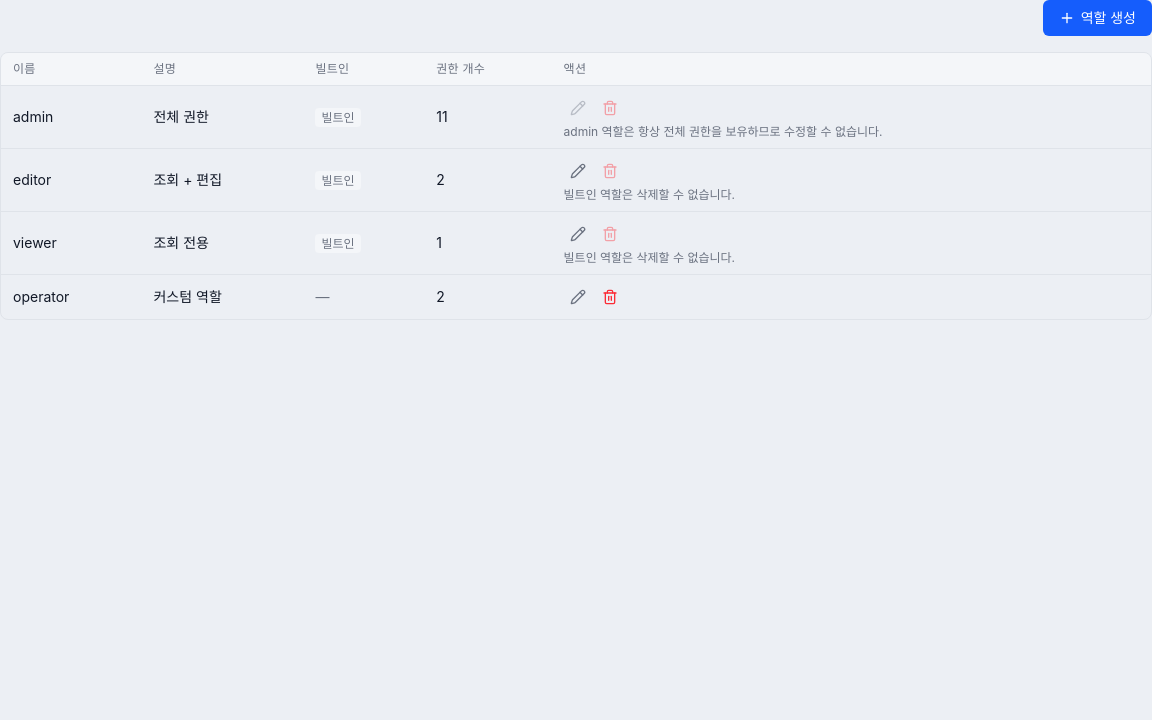
it: RolesPanel 삭제 (AC-04) › 409 ROLE_IN_USE 거부 시 원인을 안내하고 목록은 변하지 않는다
This screenshot has width=1152, height=720.
Expected: the row with test id "admin-role-row-operator" is shown, top-left (1, 274), bottom-right (1151, 319)
Click the button named "삭제 operator": x=610, y=297 top-left (596, 283), bottom-right (624, 311)
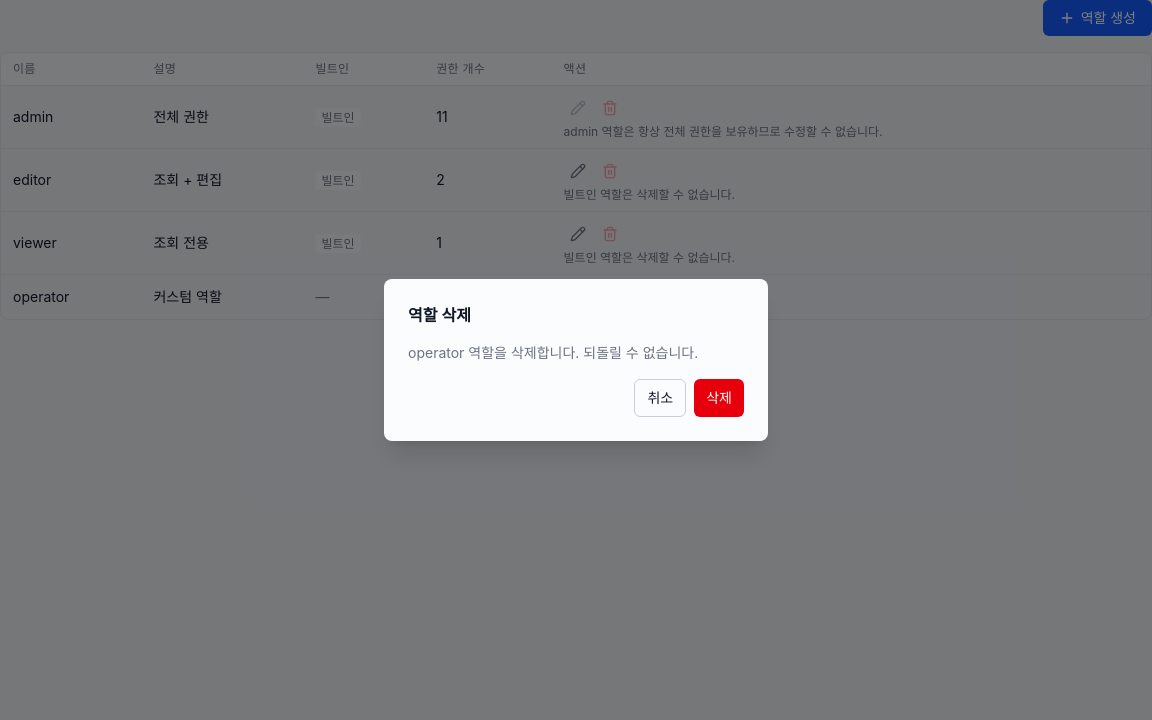
Click the button "삭제": x=719, y=398 top-left (694, 379), bottom-right (744, 417)
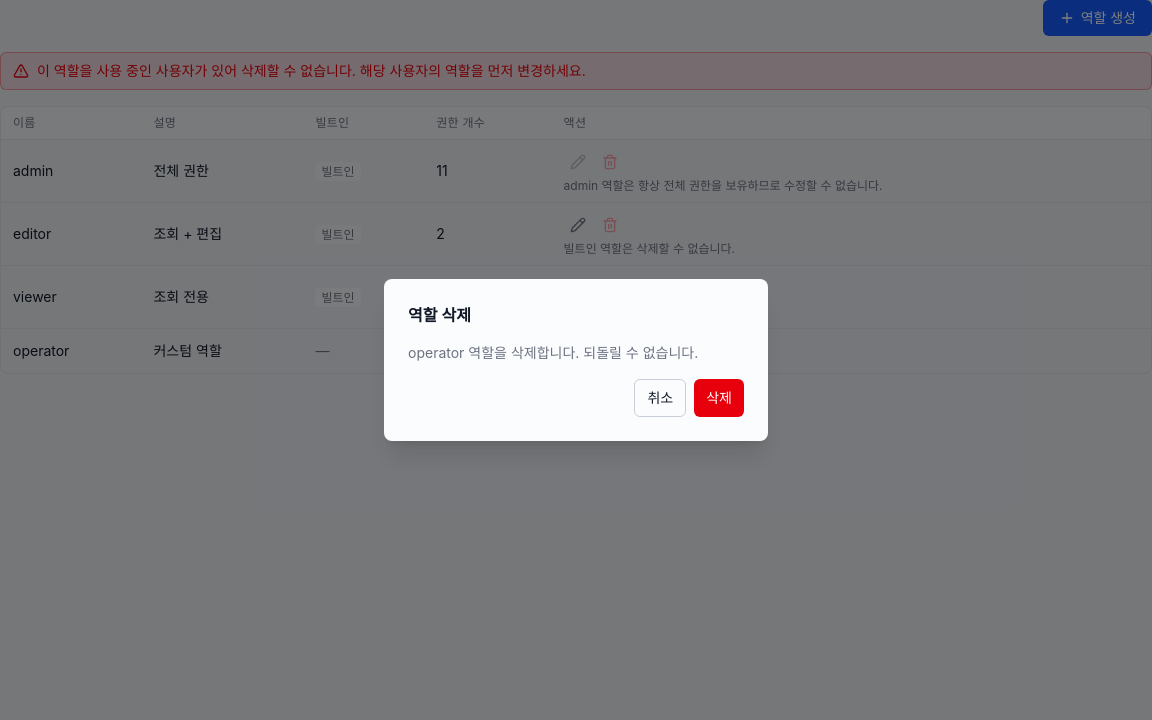
Expected: the row with test id "admin-role-row-operator" is shown, top-left (1, 328), bottom-right (1151, 373)
Now the message with test id "admin-action-error" shows "이 역할을 사용 중인 사용자가 있어 삭제할 수 없습니다.", box top-left (37, 62), bottom-right (586, 79)
